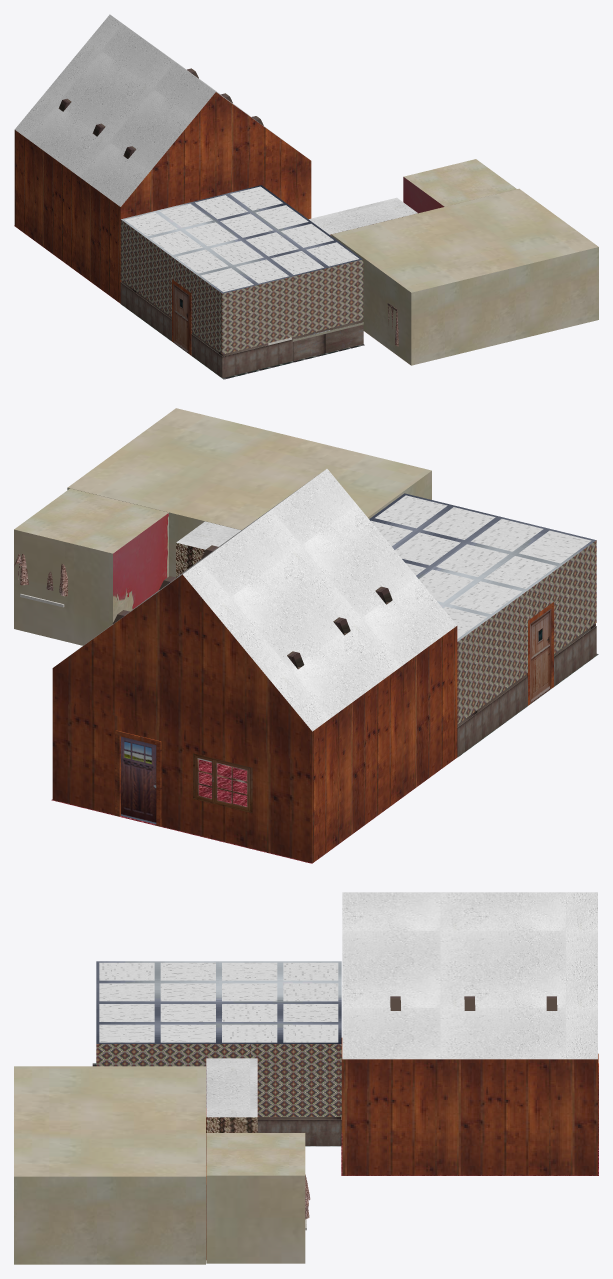
File: house-interior3.glb
3 views of the same model, one above another, from view 1: azimuth 30°, elevation 25°; view 2: azimuth 150°, elevation 25°; view 3: azimuth 270°, elevation 25° (orthographic). The views are drawn at different scales.
Parts seen in each view (by area): view 1: living-roof, bedrm-wl, bedrm-ceiling, living-roof-wls, w-house-interior-upper, dropceiling-tiles, living-main, dropceiling-bars, bathroom_ceiling, hallway_ceiling, wall-house-interior-lower-west.001, counter-bottom (+5 smaller); view 2: living-roof, living-main, living-roof-wls, bedrm-ceiling, dropceiling-tiles, w-house-interior-upper, bathroom_mainwl, bathroom_ceiling, dropceiling-bars, bathroom_paintwl, living-door, wall-house-interior-lower-northR.001 (+10 smaller); view 3: living-roof, living-main, bedrm-ceiling, bedrm-wl, dropceiling-tiles, w-house-interior-upper, bathroom_mainwl, living-roof-wls, dropceiling-bars, bathroom_ceiling, hallway_ceiling, wall-house-interior-lower-southR.001 (+2 smaller).
Part boxes in pixels (x1=…): living-roof: x1=15, y1=14, x2=298, y2=206; bedrm-wl: x1=331, y1=235, x2=598, y2=365; bedrm-ceiling: x1=332, y1=188, x2=598, y2=292; living-roof-wls: x1=14, y1=92, x2=311, y2=230; w-house-interior-upper: x1=120, y1=219, x2=363, y2=354; dropceiling-tiles: x1=124, y1=186, x2=358, y2=292; living-main: x1=14, y1=154, x2=311, y2=303; dropceiling-bars: x1=121, y1=185, x2=362, y2=293; bathroom_ceiling: x1=404, y1=159, x2=516, y2=206; hallway_ceiling: x1=309, y1=197, x2=417, y2=234; wall-house-interior-lower-west.001: x1=222, y1=322, x2=362, y2=378; counter-bottom: x1=293, y1=324, x2=363, y2=360; living-roof: x1=64, y1=469, x2=456, y2=731; living-main: x1=52, y1=658, x2=457, y2=863; living-roof-wls: x1=52, y1=574, x2=457, y2=764; bedrm-ceiling: x1=68, y1=408, x2=431, y2=529; dropceiling-tiles: x1=371, y1=495, x2=591, y2=638; w-house-interior-upper: x1=457, y1=540, x2=596, y2=724; bathroom_mainwl: x1=14, y1=529, x2=112, y2=645; bathroom_ceiling: x1=14, y1=488, x2=168, y2=553; dropceiling-bars: x1=369, y1=493, x2=596, y2=641; bathroom_paintwl: x1=113, y1=513, x2=168, y2=622; living-door: x1=121, y1=736, x2=156, y2=824; wall-house-interior-lower-northR.001: x1=457, y1=676, x2=527, y2=756; living-roof: x1=342, y1=892, x2=597, y2=1059; living-main: x1=342, y1=1088, x2=597, y2=1175; bedrm-ceiling: x1=14, y1=1066, x2=205, y2=1176; bedrm-wl: x1=14, y1=1176, x2=205, y2=1264; dropceiling-tiles: x1=99, y1=962, x2=338, y2=1042; w-house-interior-upper: x1=96, y1=1044, x2=341, y2=1116; bathroom_mainwl: x1=206, y1=1175, x2=305, y2=1263; living-roof-wls: x1=342, y1=1059, x2=597, y2=1088; dropceiling-bars: x1=96, y1=961, x2=341, y2=1043; bathroom_ceiling: x1=206, y1=1133, x2=305, y2=1175; hallway_ceiling: x1=206, y1=1058, x2=257, y2=1117; wall-house-interior-lower-southR.001: x1=257, y1=1119, x2=341, y2=1145.
Size of what is drawn, in the model's own units: 35.81 by 18.98 by 43.93.
Materials: 40 (40 with a texture image).
